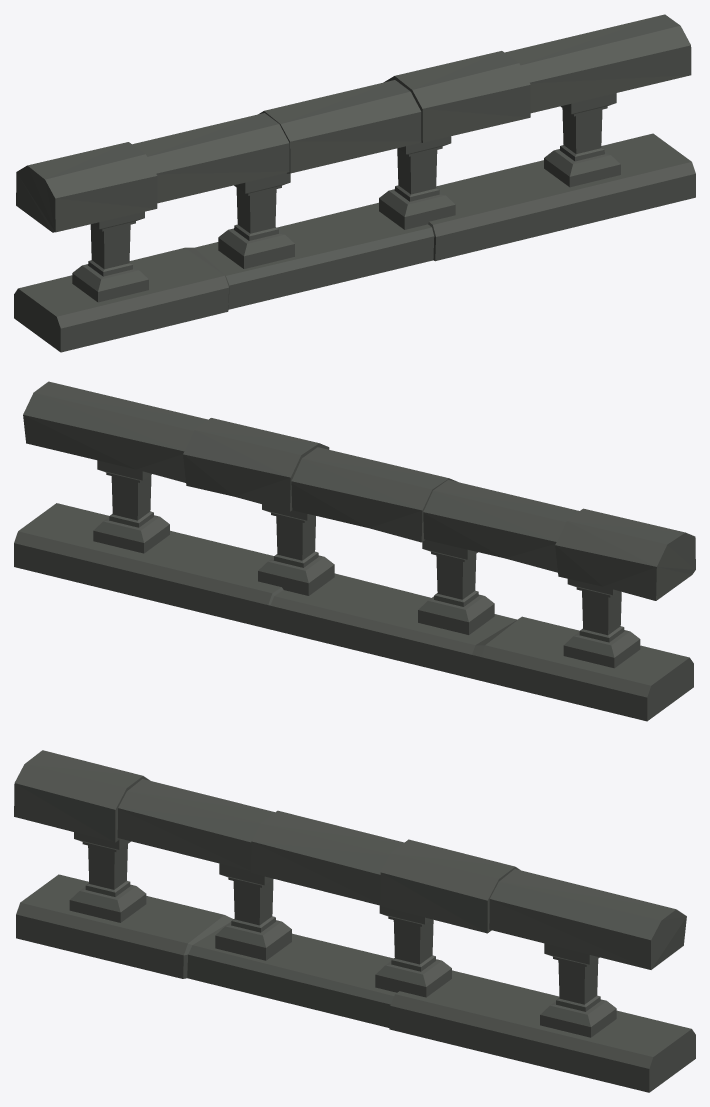
File: MDungeon_Baluster_01_Straight.FBX
The picture shows the model from 3 angles, top to bottom: view 1: azimuth 30°, elevation 25°; view 2: azimuth 150°, elevation 25°; view 3: azimuth 330°, elevation 25°; orthographic projection.
Parts seen in each view (by area): view 1: MDungeon_Baluster_01_Straight_LOD0; view 2: MDungeon_Baluster_01_Straight_LOD0; view 3: MDungeon_Baluster_01_Straight_LOD0.
Boxes of the visible parts, x1,y1,x2,y2 form: MDungeon_Baluster_01_Straight_LOD0: (14,14,695,352); MDungeon_Baluster_01_Straight_LOD0: (14,381,695,721); MDungeon_Baluster_01_Straight_LOD0: (14,750,695,1092).
Size of what is drawn, in the model's own units: 6.04 by 1.5 by 0.7658.
